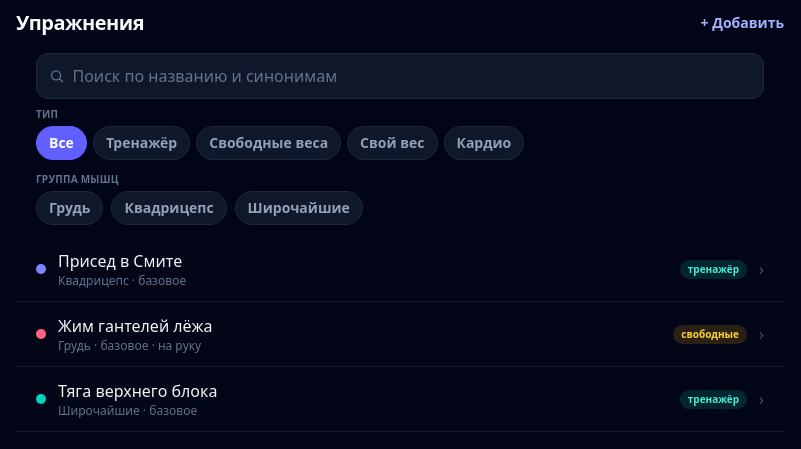
Test: ExercisesPage › фильтрует по группе мышц через чип
Expected: the text "Присед в Смите" is shown, [58,250,182,272]
What coordinates should you click on to do the following:
click the button "Грудь"
I would click on:
 (70, 208)
Its box is [36,191,104,225].
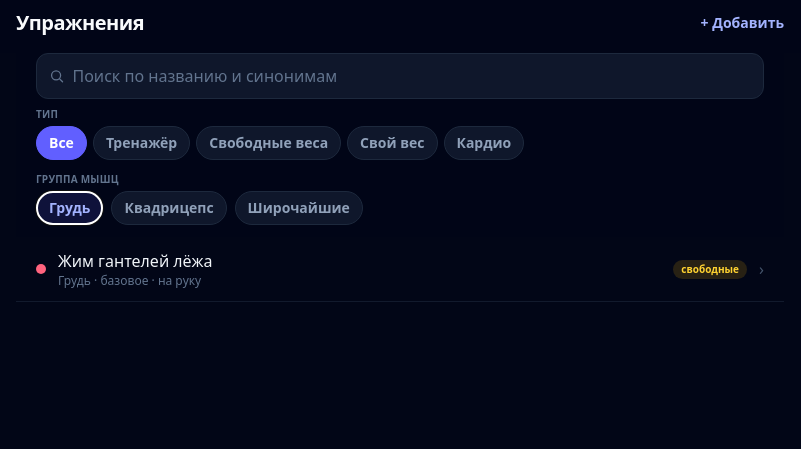
Expected: the text "Жим гантелей лёжа" is shown, [58,250,213,272]
Expected: the link "Присед в Смите" is gone
